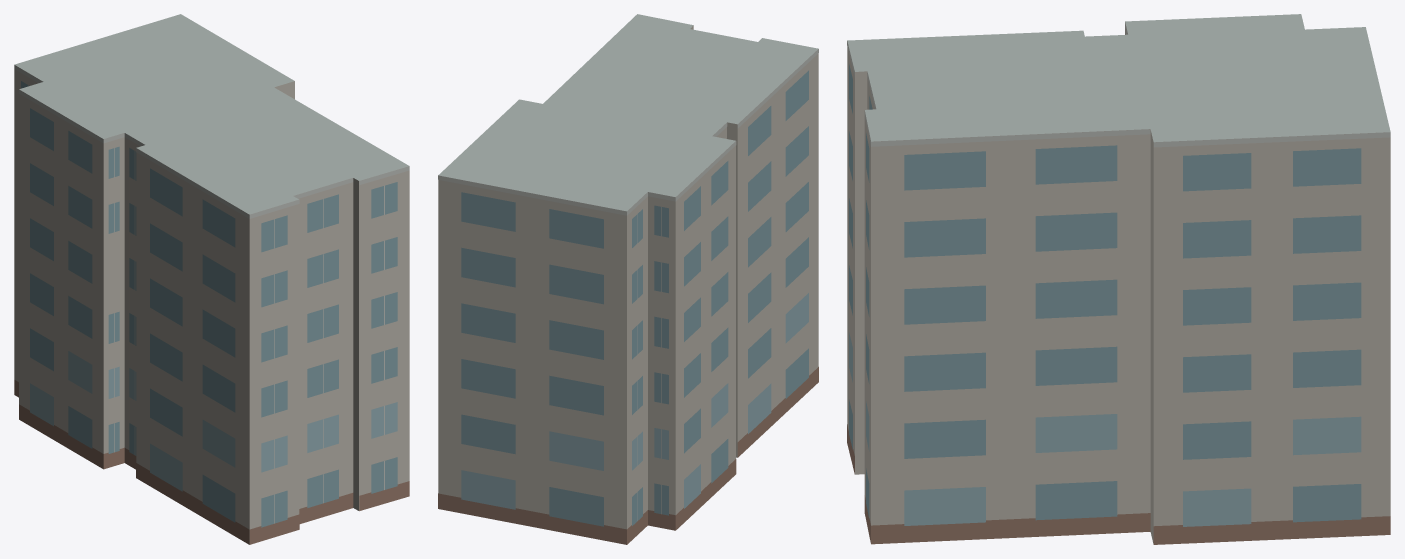
File: survey-upis-32664403.glb
The picture shows the model from 3 angles, left to right: view 1: azimuth 30°, elevation 25°; view 2: azimuth 150°, elevation 25°; view 3: azimuth 270°, elevation 25°; orthographic projection. The views are drawn at different scales.
Visible parts, largest first — view 1: survey-upis-32664403.tmp; view 2: survey-upis-32664403.tmp; view 3: survey-upis-32664403.tmp.
Boxes of the visible parts, left/top/right/bottom form: survey-upis-32664403.tmp: left=14, top=14, right=409, bottom=544; survey-upis-32664403.tmp: left=438, top=14, right=818, bottom=544; survey-upis-32664403.tmp: left=847, top=14, right=1390, bottom=544.
Size of the model in its own units: 12.68 by 18.55 by 22.7.
